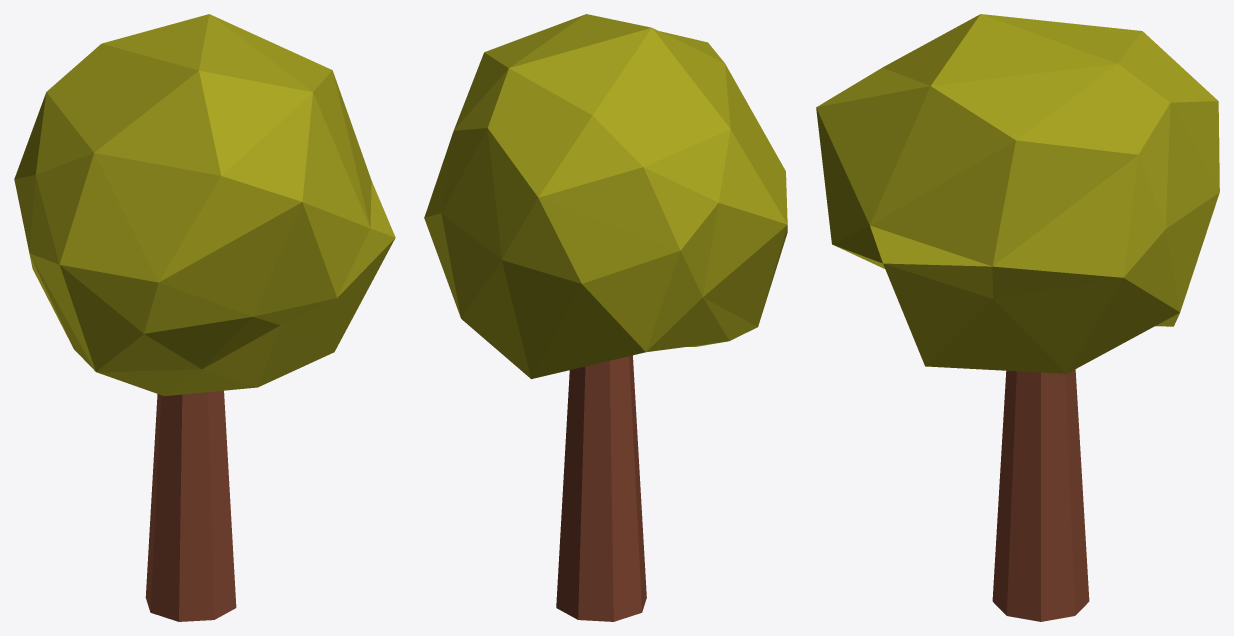
The model's file is Tree_03.fbx.
The picture shows the model from 3 angles, left to right: view 1: azimuth 30°, elevation 25°; view 2: azimuth 150°, elevation 25°; view 3: azimuth 270°, elevation 25°; orthographic projection. The views are drawn at different scales.
Parts seen in each view (by area): view 1: tree3.003; view 2: tree3.003; view 3: tree3.003.
Part boxes in pixels (left/top/right/bottom): tree3.003: left=14, top=14, right=395, bottom=621; tree3.003: left=424, top=14, right=787, bottom=621; tree3.003: left=816, top=14, right=1219, bottom=621.
Bounding box in the file's own units: 316 × 534 × 339.
